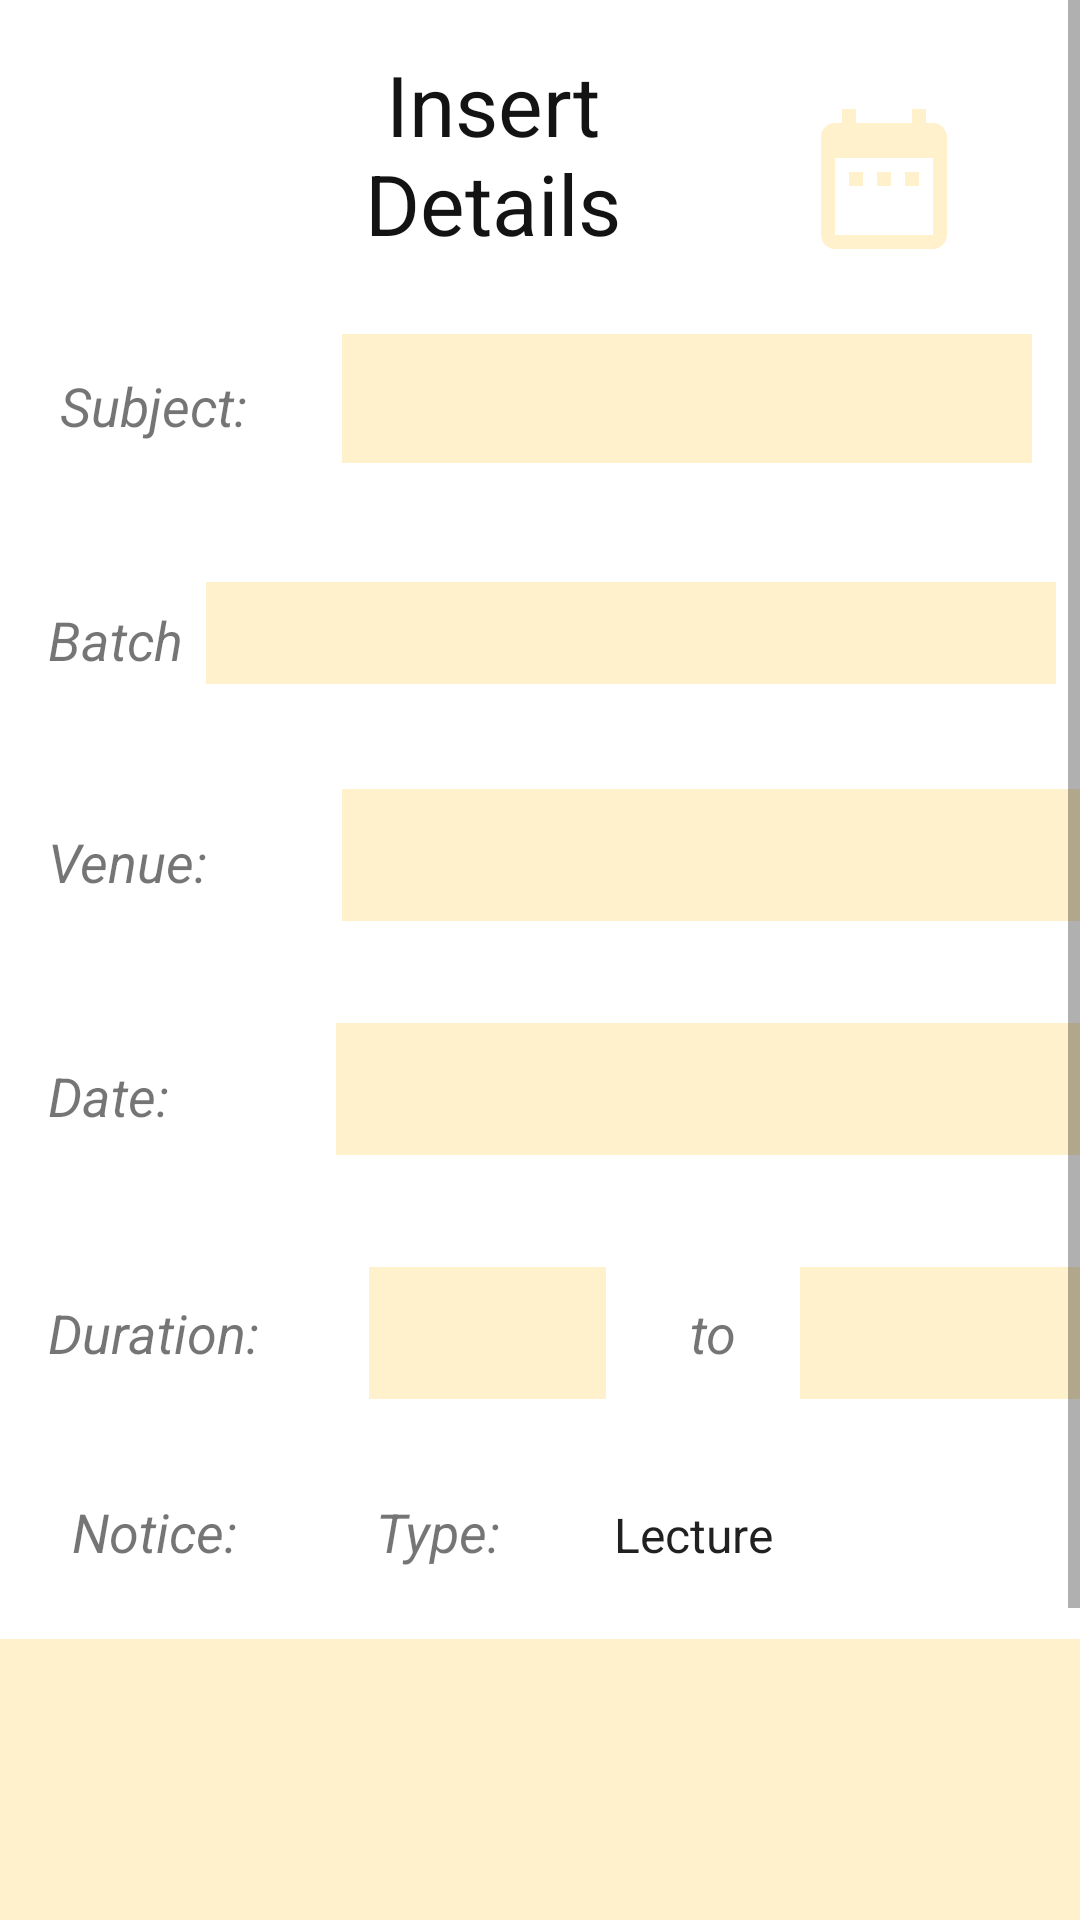

Icons on this 1080 × 1920 Android screen, each with the point to tap as [x,y]:
date range: [884,179]
